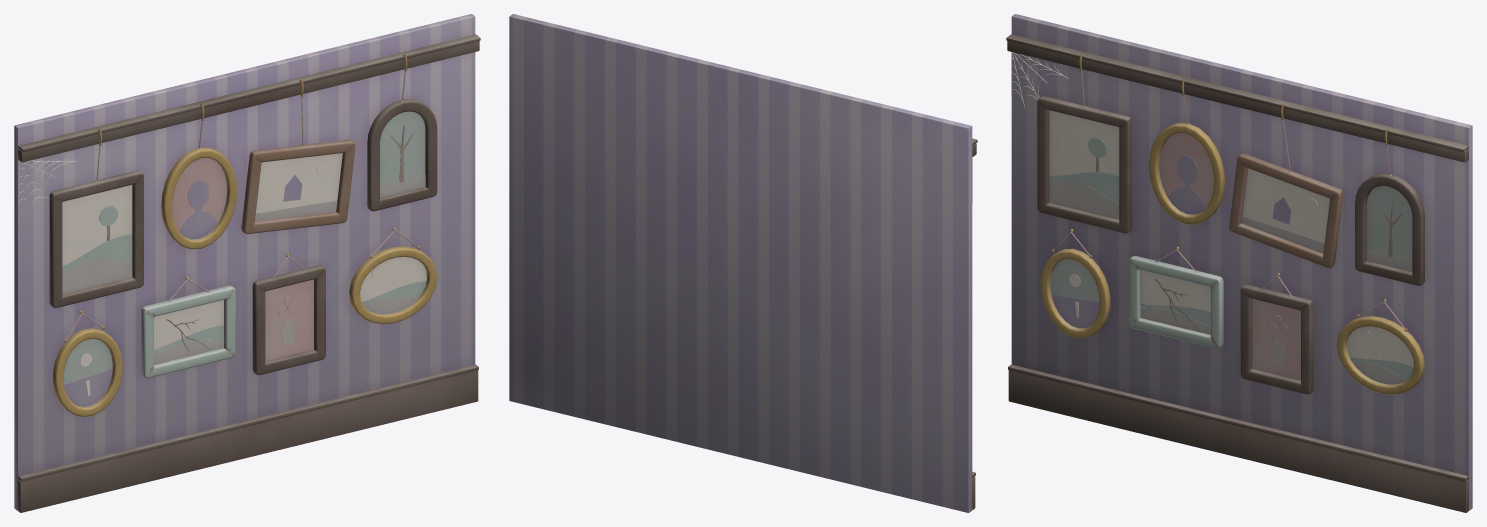
The model's file is haunted-photo-wall.glb.
The picture shows the model from 3 angles, left to right: view 1: azimuth 30°, elevation 25°; view 2: azimuth 150°, elevation 25°; view 3: azimuth 330°, elevation 25°; orthographic projection.
Visible parts, largest first — view 1: haunted-photo-wall_body; view 2: haunted-photo-wall_body; view 3: haunted-photo-wall_body.
Part boxes in pixels (<box>): haunted-photo-wall_body: <box>14,14,480,512</box>; haunted-photo-wall_body: <box>509,14,977,512</box>; haunted-photo-wall_body: <box>1006,14,1472,512</box>.
Bounding box in the file's own units: 1.5 × 1.2 × 0.0648.
2 materials, 1 textured.
